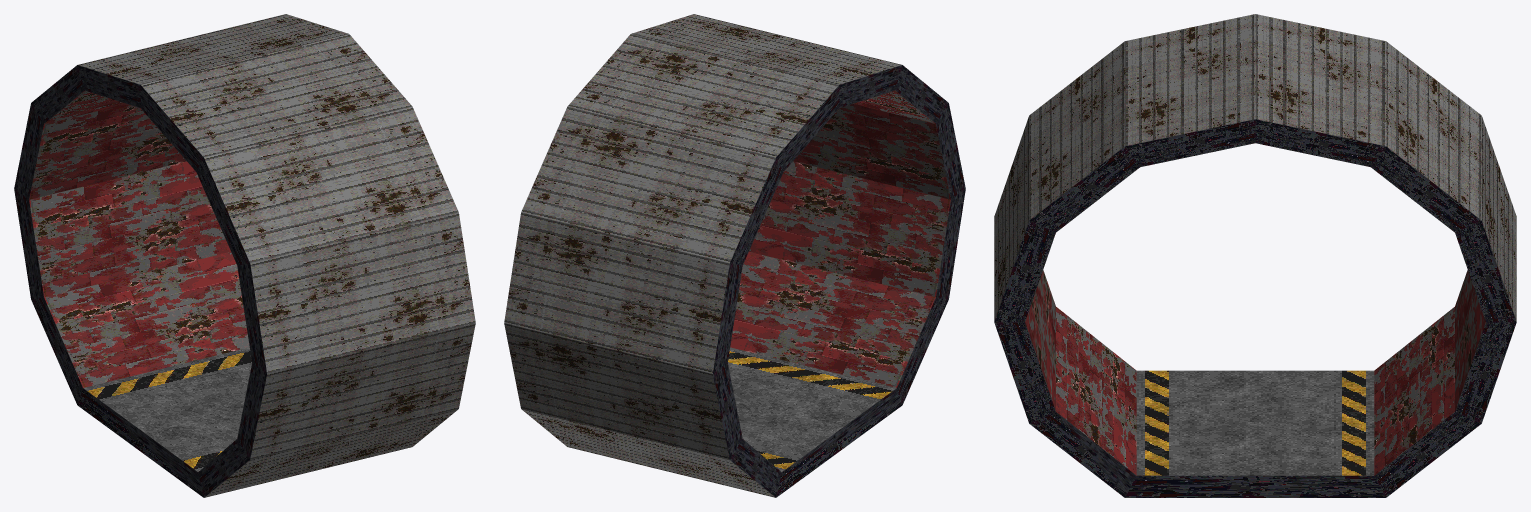
Rendered from Red_Hazard_Cylinder_Hallway-col.glb.
The picture shows the model from 3 angles, left to right: view 1: azimuth 30°, elevation 25°; view 2: azimuth 150°, elevation 25°; view 3: azimuth 270°, elevation 25°; orthographic projection. The views are drawn at different scales.
Parts seen in each view (by area): view 1: Red_Hazard_Cylinder_Hallway-col; view 2: Red_Hazard_Cylinder_Hallway-col; view 3: Red_Hazard_Cylinder_Hallway-col.
Boxes of the visible parts, x1,y1,x2,y2 form: Red_Hazard_Cylinder_Hallway-col: (14, 14, 475, 497); Red_Hazard_Cylinder_Hallway-col: (504, 14, 965, 497); Red_Hazard_Cylinder_Hallway-col: (994, 14, 1516, 497).
Bounding box in the file's own units: 2 × 3.36 × 4.2.
Materials: 1 (1 with a texture image).
